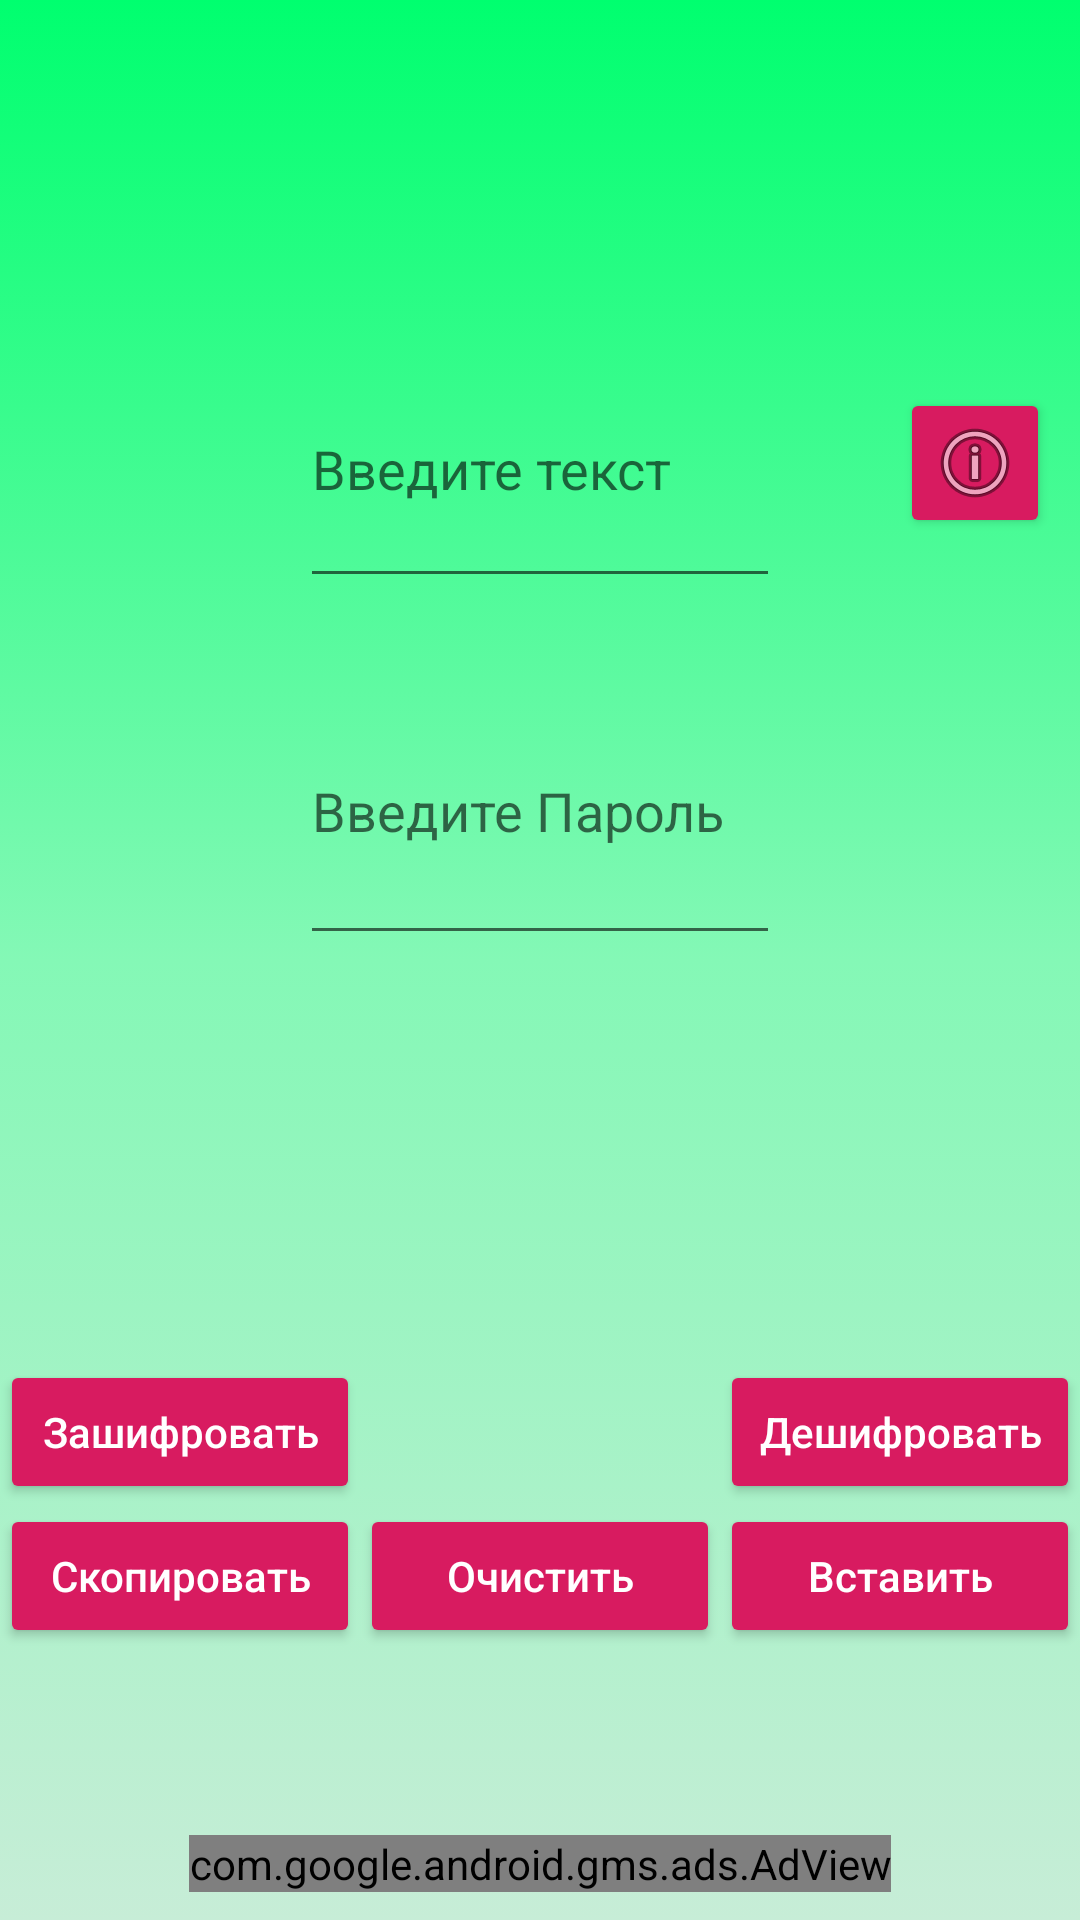

Named icons in this screenshot (1080px x 1920px) and their centers, point (x, y):
info details: point (975, 463)
